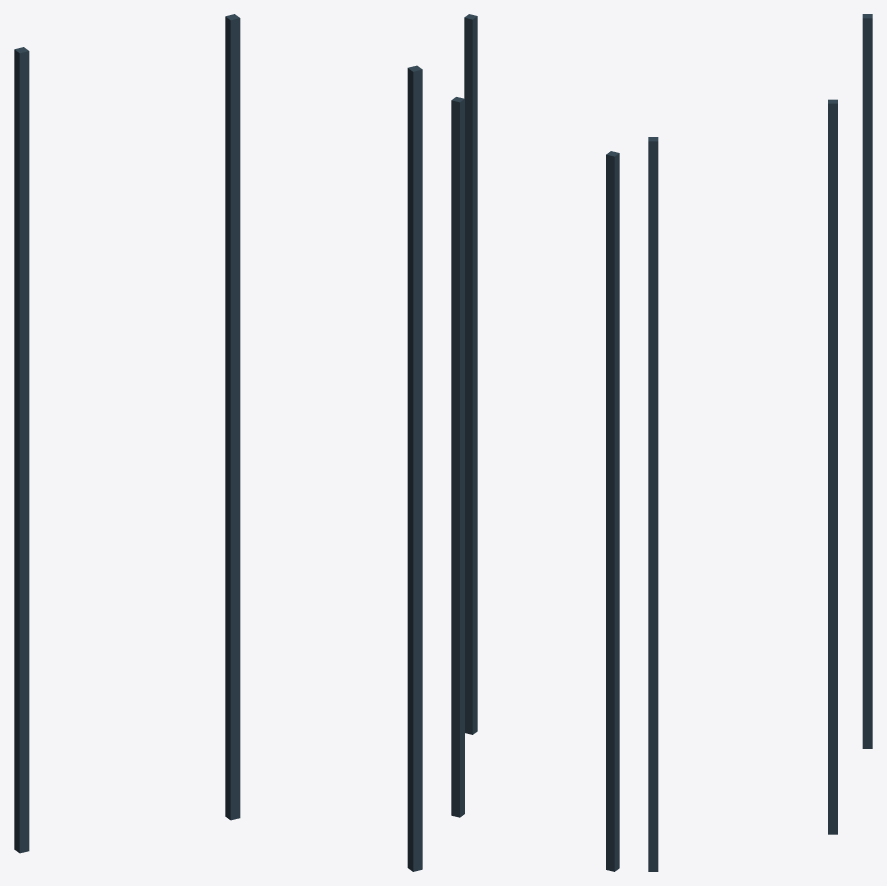
Rendered from v02-transit-world-03-01-01.glb.
3 views of the same model, side by side, from view 1: azimuth 30°, elevation 25°; view 2: azimuth 150°, elevation 25°; view 3: azimuth 270°, elevation 25° (orthographic). The views are drawn at different scales.
Visible parts, largest first — view 1: v02-transit-world-03-01-01; view 2: v02-transit-world-03-01-01; view 3: v02-transit-world-03-01-01.
Part boxes in pixels (left/top/right/bottom): v02-transit-world-03-01-01: left=14, top=14, right=422, bottom=871; v02-transit-world-03-01-01: left=451, top=14, right=619, bottom=871; v02-transit-world-03-01-01: left=648, top=14, right=872, bottom=871.
Size of the model in its own units: 35.95 by 96.25 by 26.78.
